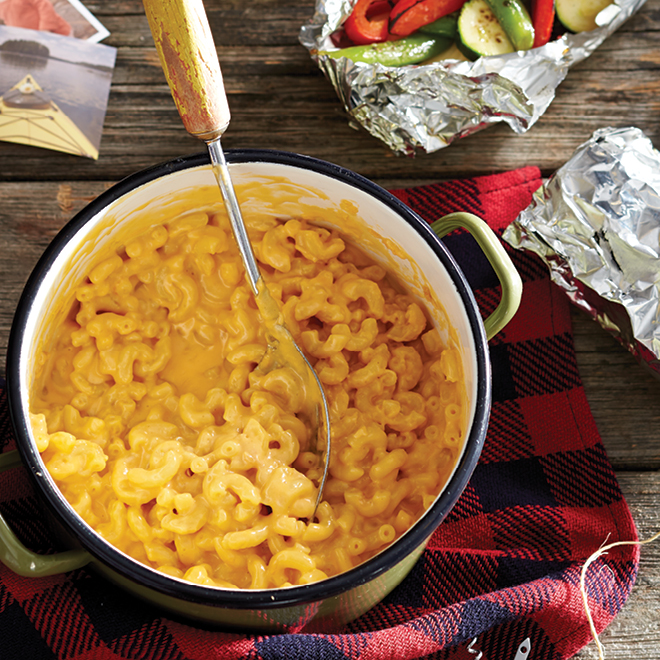macncheese: (27, 190, 461, 588)
